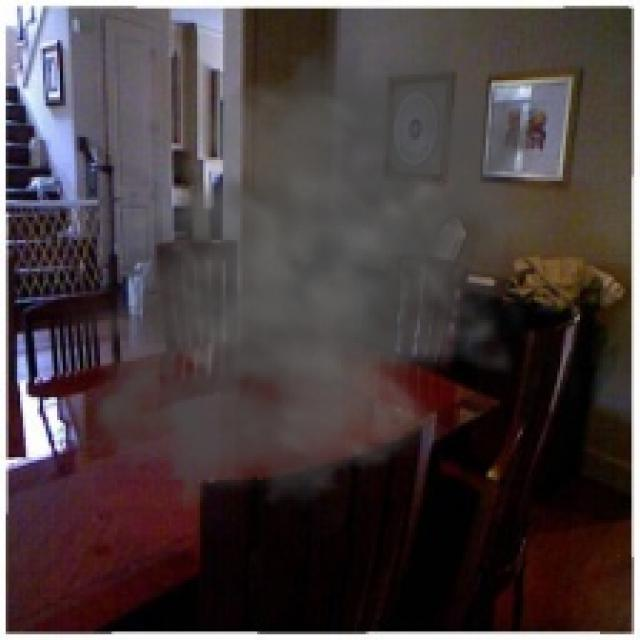Smoke: (54, 3, 574, 546)
